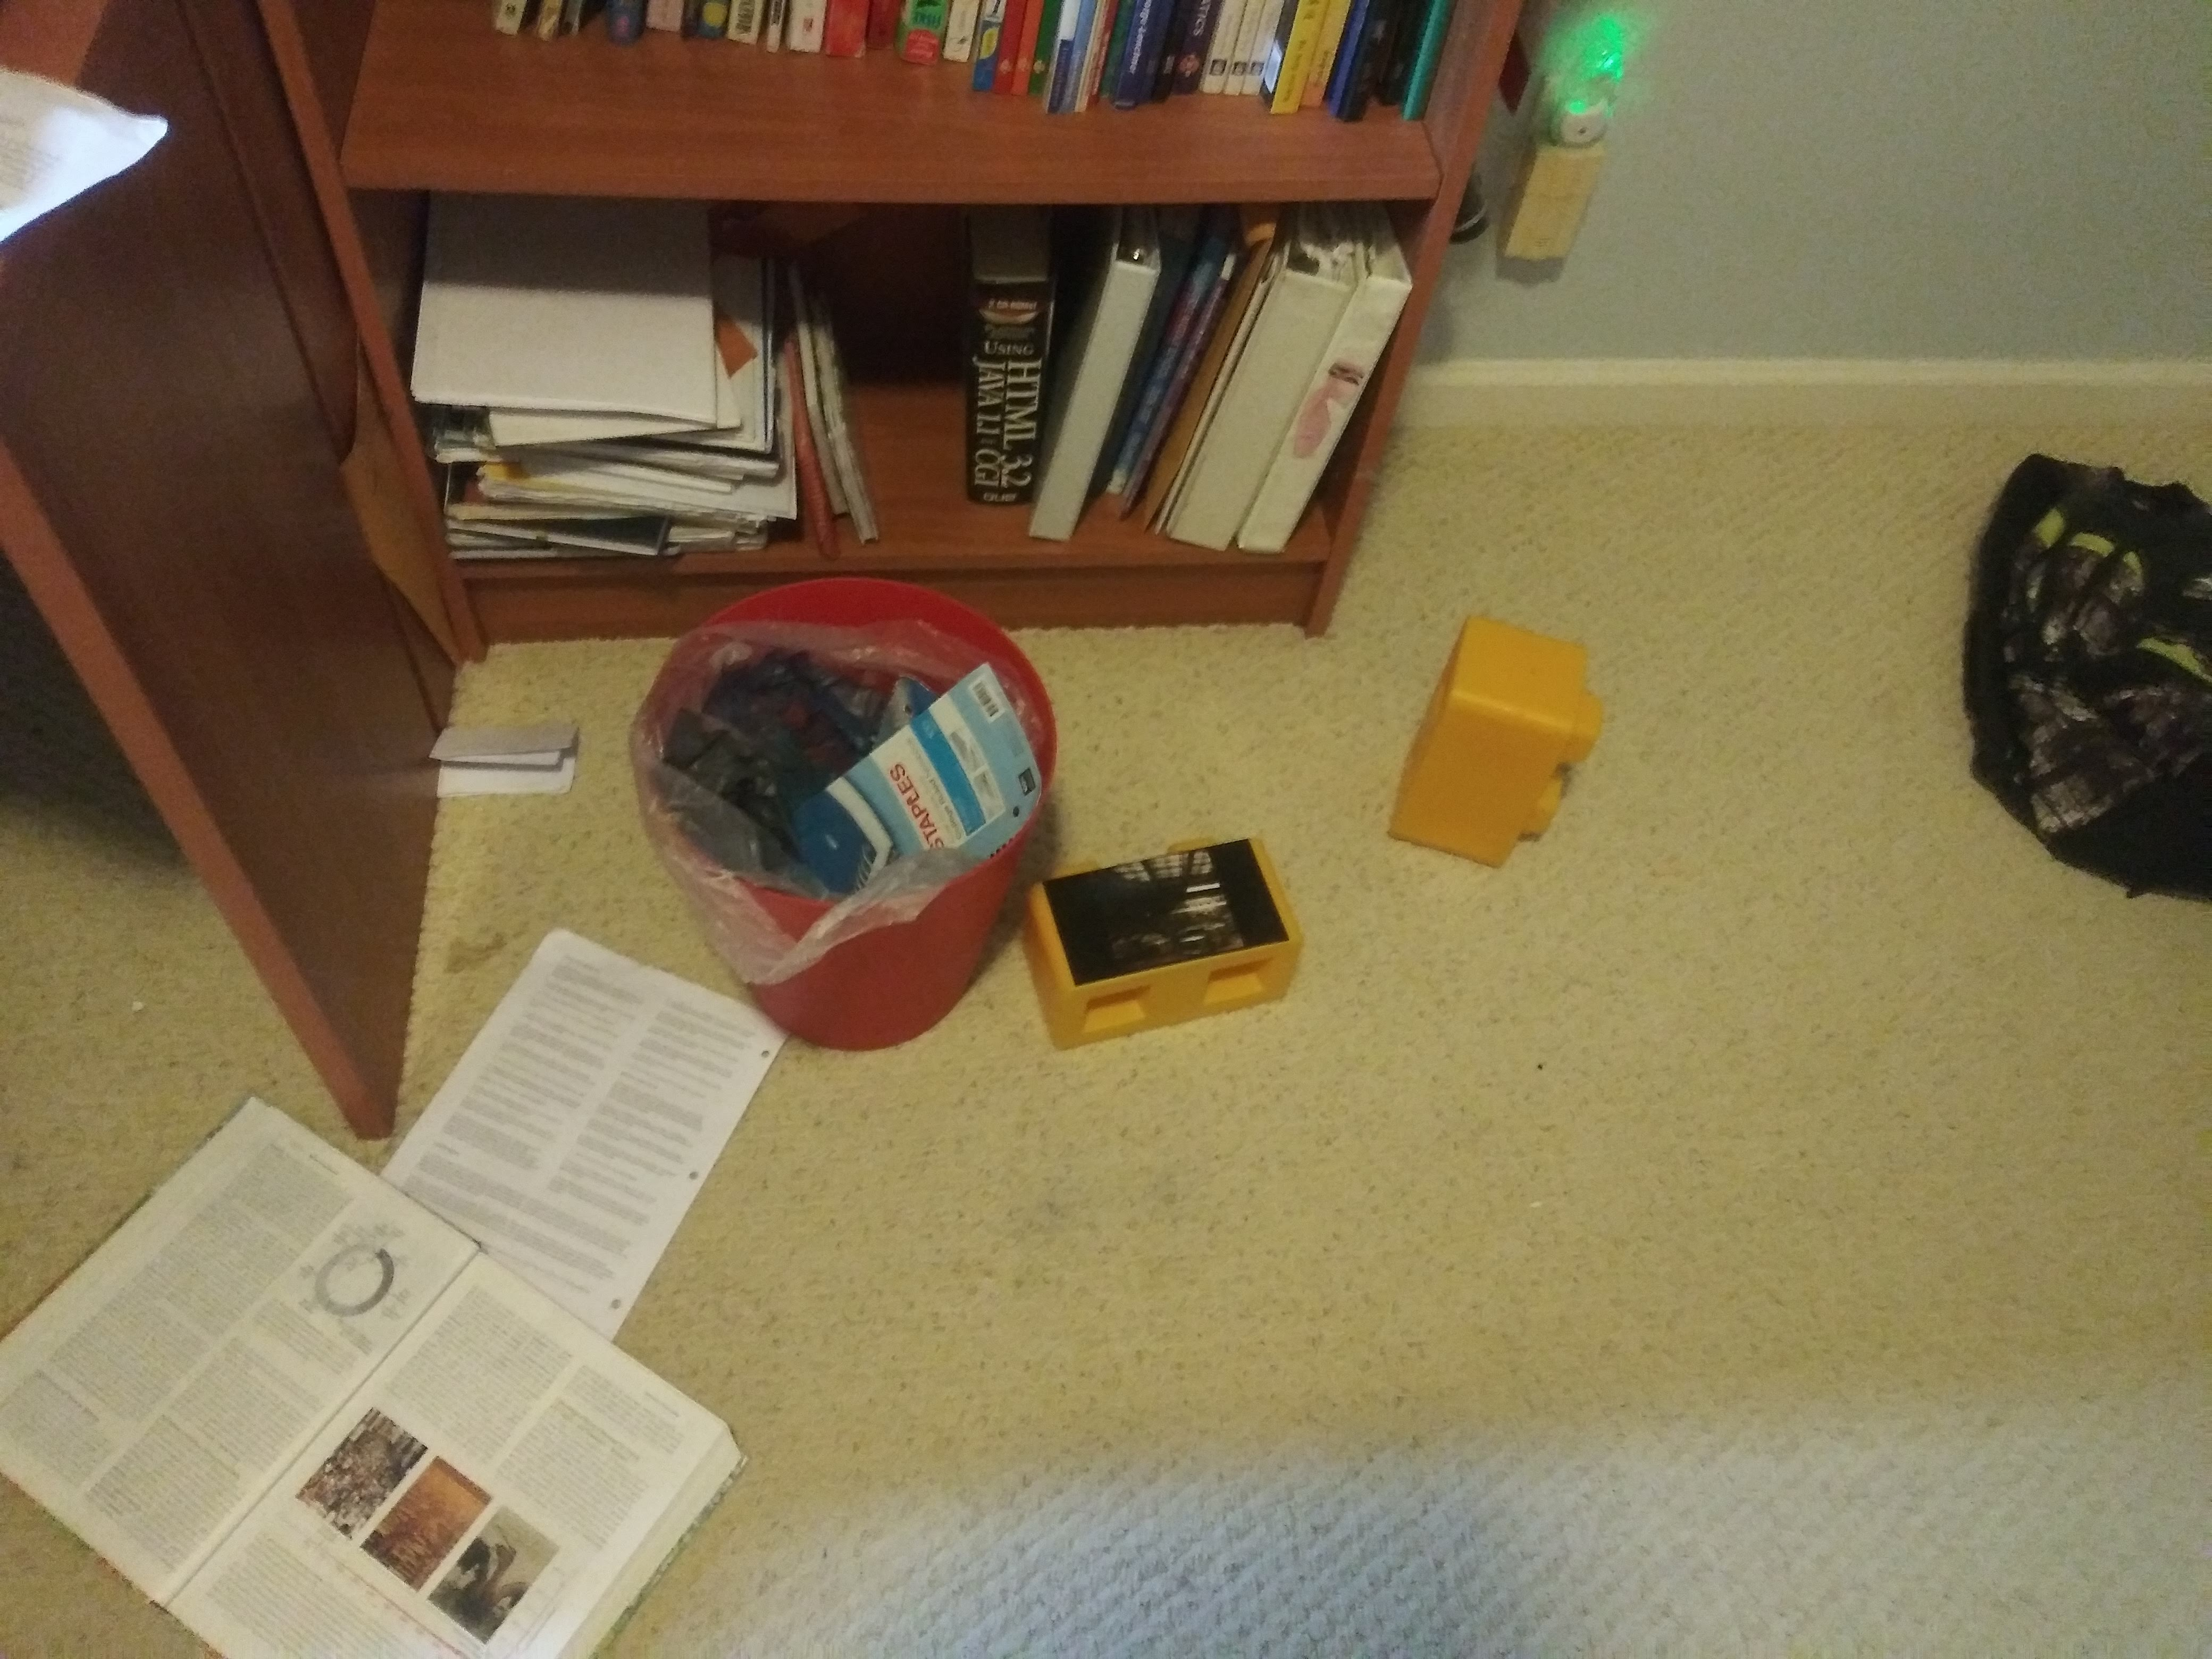skystone: (1049, 859, 1296, 1021)
stone: (1406, 638, 1566, 873)
